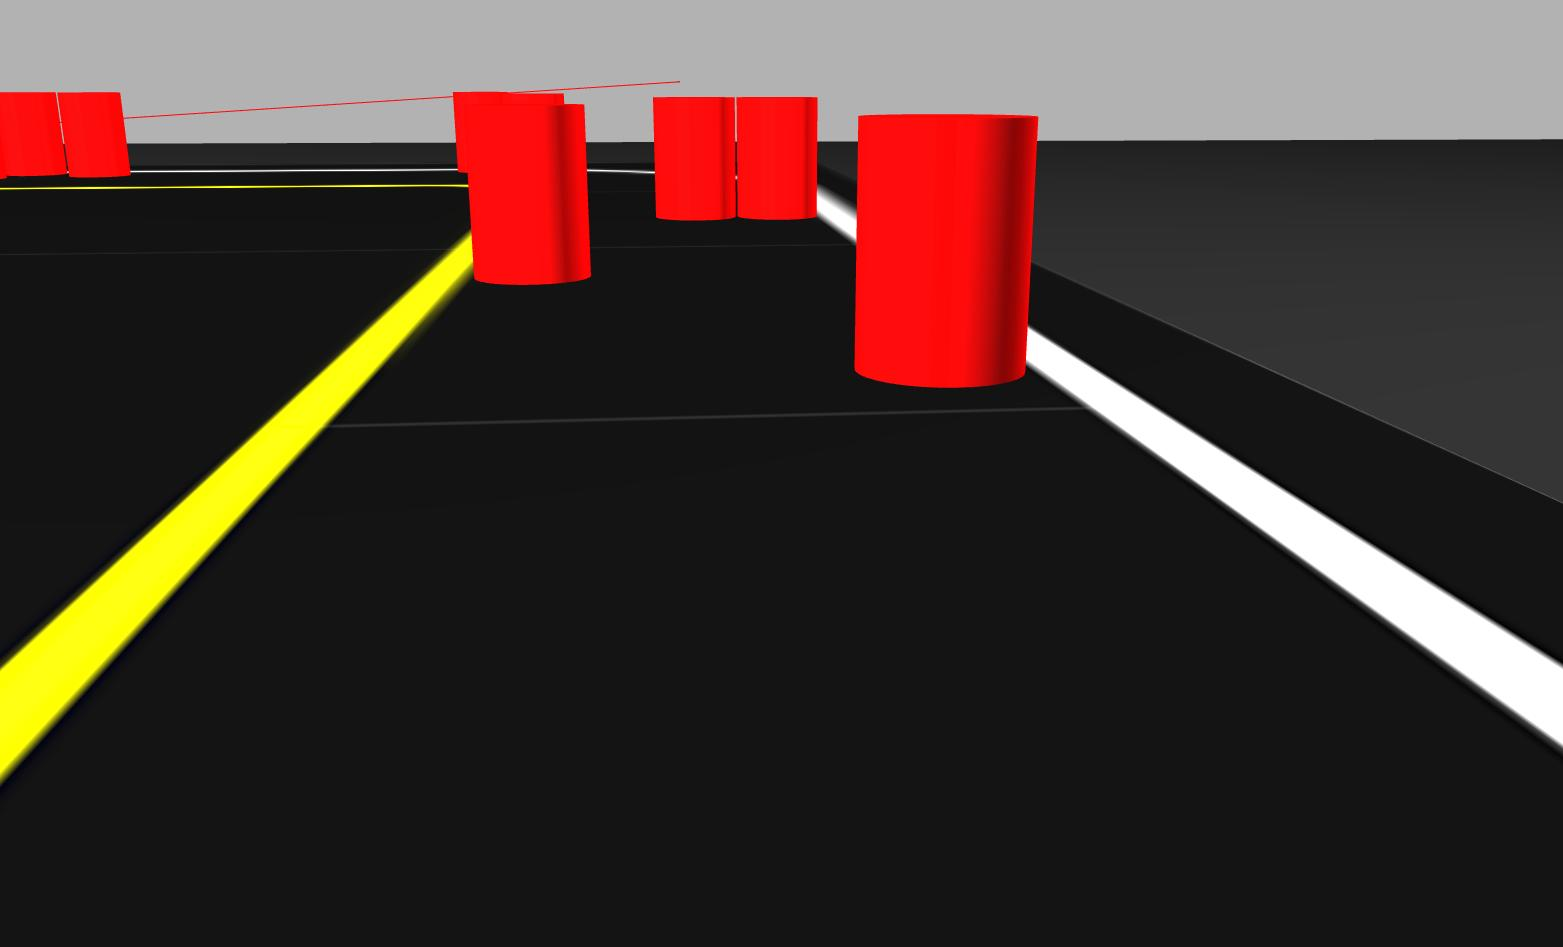obstacle: (850, 105, 1041, 388), (466, 101, 589, 290), (651, 93, 737, 227), (736, 93, 823, 221), (452, 87, 568, 178), (57, 85, 138, 179), (1, 86, 68, 181)
